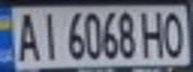0: (81, 8, 103, 61)
6: (60, 8, 84, 61), (100, 8, 121, 60)
8: (115, 8, 139, 60)
A: (12, 8, 42, 62)
H: (139, 7, 169, 60)
I: (36, 8, 60, 61)
O: (160, 8, 190, 59)
